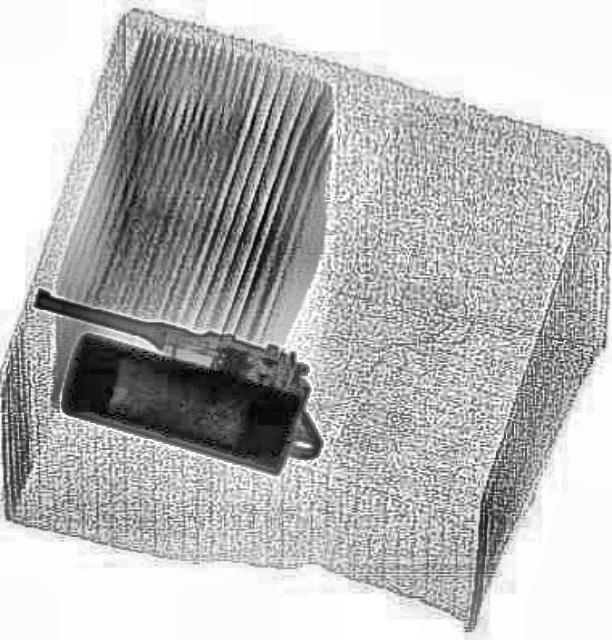Gun: (9, 286, 341, 460)
